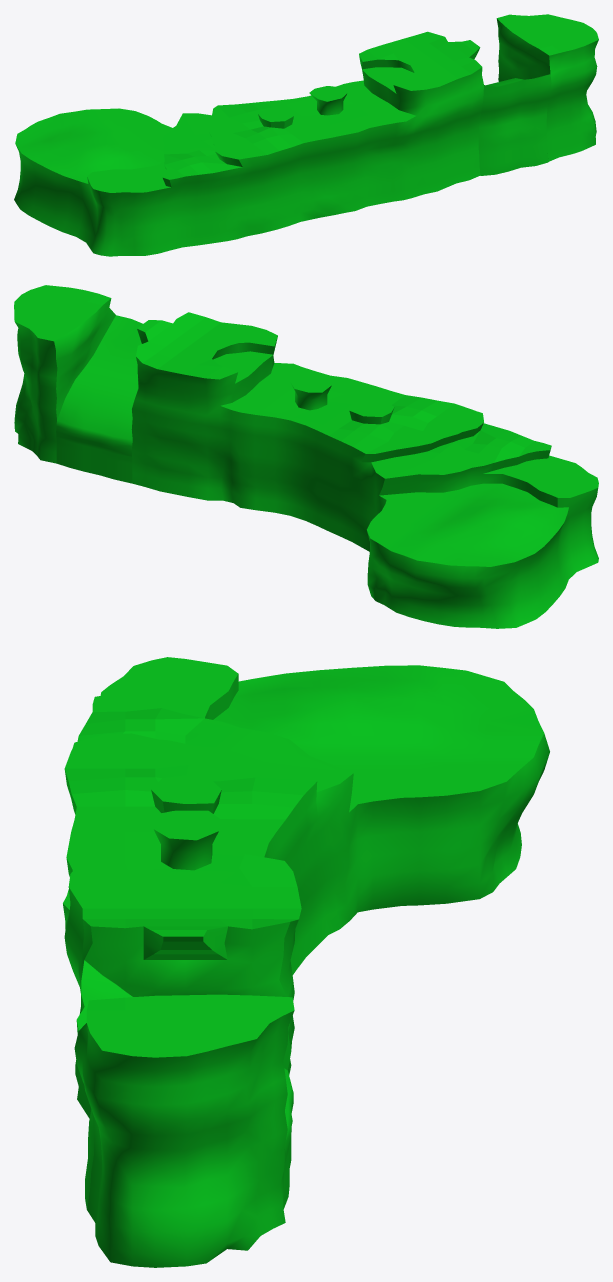
Rendered from lvl1_plat020.FBX.
The picture shows the model from 3 angles, top to bottom: view 1: azimuth 30°, elevation 25°; view 2: azimuth 150°, elevation 25°; view 3: azimuth 270°, elevation 25°; orthographic projection. The views are drawn at different scales.
Parts seen in each view (by area): view 1: lvl1_plat_020, lvl1_plat_020_grass; view 2: lvl1_plat_020, lvl1_plat_020_grass; view 3: lvl1_plat_020_grass, lvl1_plat_020.
Boxes of the visible parts, x1=… form: lvl1_plat_020: x1=14, y1=18, x2=598, y2=256; lvl1_plat_020_grass: x1=15, y1=14, x2=598, y2=192; lvl1_plat_020: x1=14, y1=298, x2=598, y2=628; lvl1_plat_020_grass: x1=14, y1=285, x2=598, y2=566; lvl1_plat_020_grass: x1=63, y1=657, x2=544, y2=1057; lvl1_plat_020: x1=63, y1=674, x2=549, y2=1267.
Bounding box in the file's own units: 7433 × 3098 × 1588.
